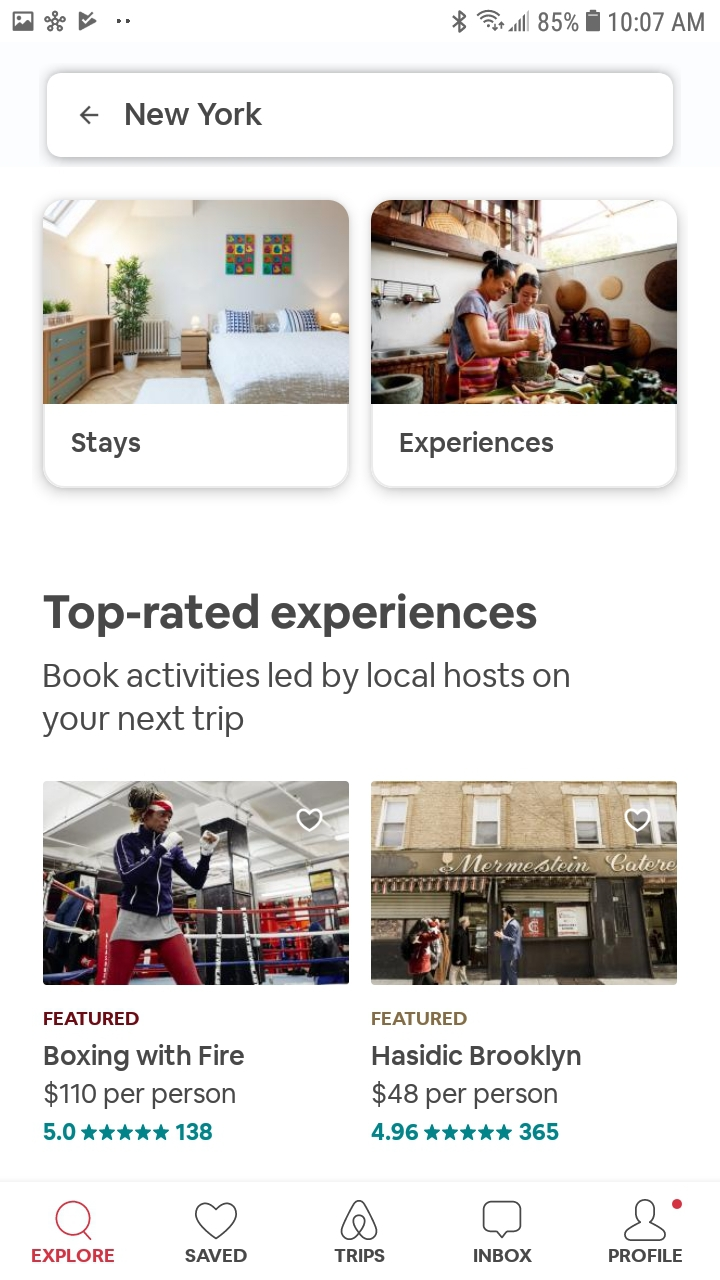EditText: (48, 73, 674, 158)
Icon: (624, 1199, 667, 1242), (195, 1201, 238, 1239), (482, 1200, 522, 1238), (81, 1124, 170, 1141), (424, 1124, 513, 1141), (56, 1200, 92, 1240), (297, 809, 323, 833), (625, 808, 650, 832), (80, 106, 100, 125)
Image: (44, 781, 350, 986), (371, 200, 677, 405), (371, 781, 677, 985), (44, 201, 350, 405), (340, 1200, 378, 1240)
Text: (43, 661, 570, 738), (43, 593, 537, 638), (45, 1043, 245, 1072), (45, 1080, 236, 1110), (373, 1044, 581, 1071), (372, 1080, 557, 1110), (400, 431, 554, 459), (127, 102, 263, 126), (71, 432, 141, 459), (44, 1011, 140, 1026), (372, 1012, 467, 1025), (32, 1249, 115, 1263), (609, 1248, 683, 1263), (186, 1248, 248, 1263), (372, 1122, 419, 1141), (474, 1249, 533, 1263), (334, 1249, 386, 1263), (519, 1123, 559, 1141), (176, 1123, 213, 1141), (44, 1123, 76, 1141)
UpperTaskBar: (1, 1, 720, 34)
